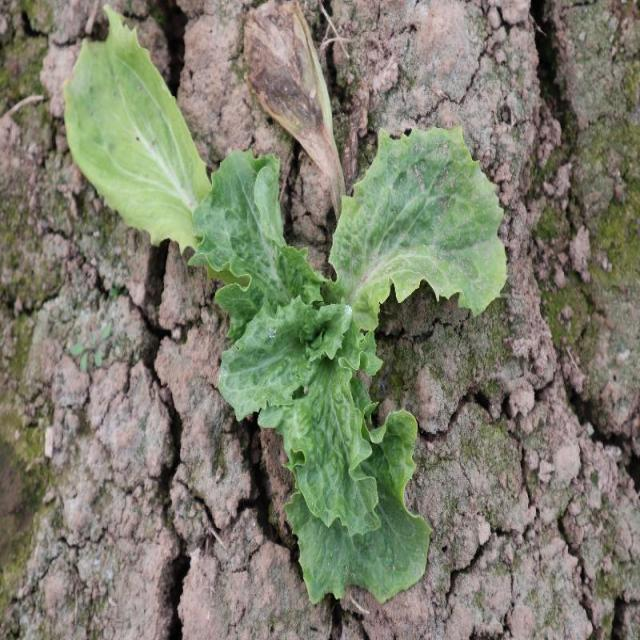crop: (193, 119, 509, 602)
